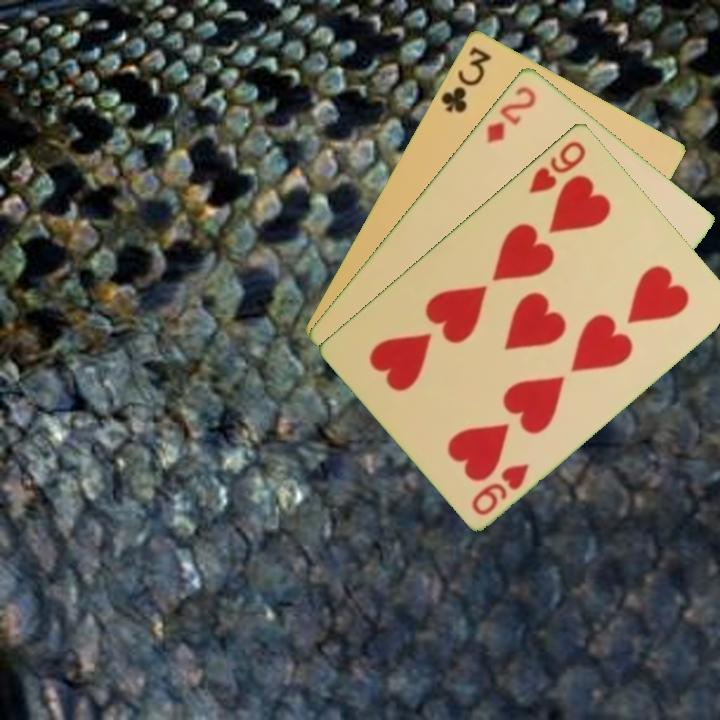2d: (482, 82, 539, 146)
3c: (436, 42, 494, 116)
9h: (525, 136, 589, 196), (467, 459, 532, 518)
